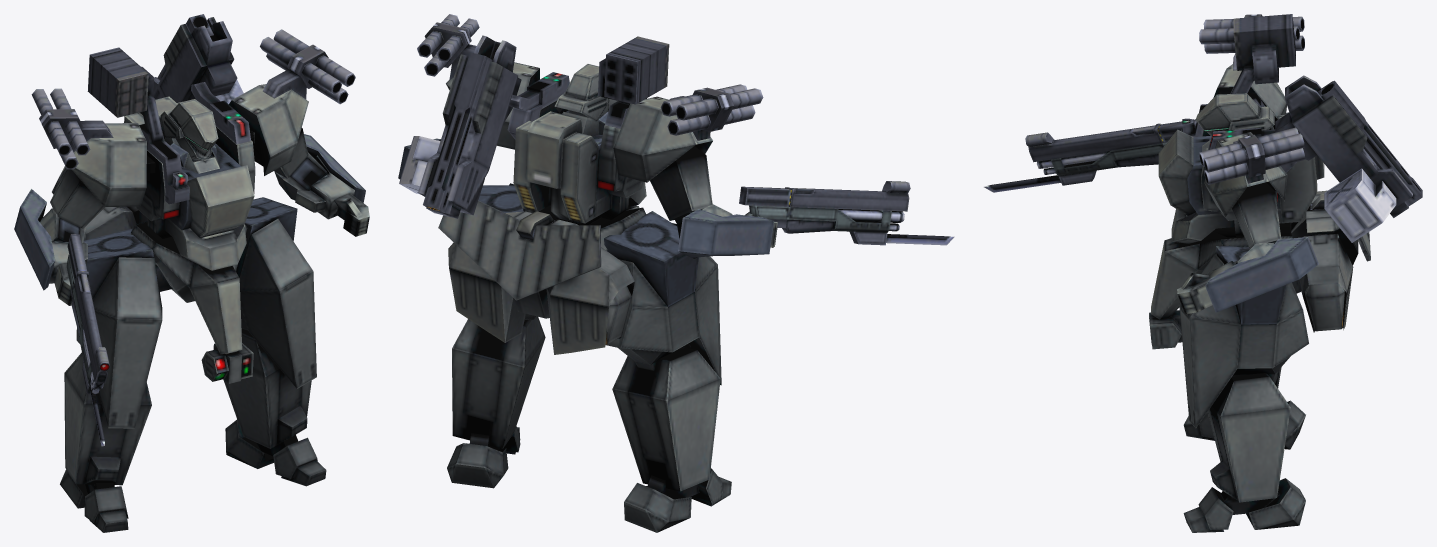
3 views of the same model, side by side, from view 1: azimuth 30°, elevation 25°; view 2: azimuth 150°, elevation 25°; view 3: azimuth 270°, elevation 25° (orthographic). The views are drawn at different scales.
Parts seen in each view (by area): view 1: torso, leftLeg, rightLeg, rightArm, leftArm, back, head; view 2: back, rightLeg, rightArm, torso, leftLeg, leftArm, head; view 3: leftLeg, back, torso, leftArm, rightArm, head, rightLeg.
Boxes of the visible parts, x1,y1,x2,y2 form: torso: (87, 47, 255, 383); leftLeg: (223, 197, 326, 486); rightLeg: (60, 228, 172, 532); rightArm: (14, 88, 146, 446); leftArm: (229, 29, 369, 236); back: (52, 14, 243, 240); head: (160, 99, 219, 173); back: (399, 35, 634, 354); rightLeg: (604, 211, 731, 532); rightArm: (613, 84, 954, 258); torso: (507, 36, 669, 250); leftLeg: (447, 183, 545, 488); leftArm: (398, 14, 539, 179); head: (554, 64, 609, 136); leftLeg: (1179, 245, 1308, 532); back: (1261, 75, 1422, 332); torso: (1149, 14, 1324, 349); leftArm: (1177, 127, 1318, 314); rightArm: (984, 14, 1304, 192); head: (1195, 93, 1274, 151); rightLeg: (1183, 280, 1305, 449).
Size of the model in its own units: 2.72 by 3 by 2.78.
1 material, 1 textured.
